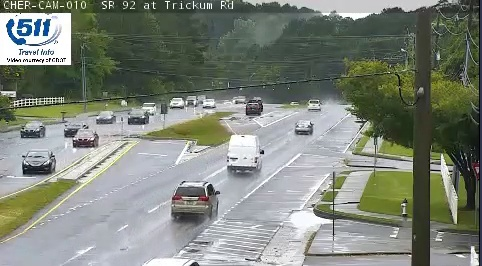car: (172, 182, 218, 215), (295, 121, 313, 133), (307, 100, 320, 110)
van: (228, 135, 260, 170)
